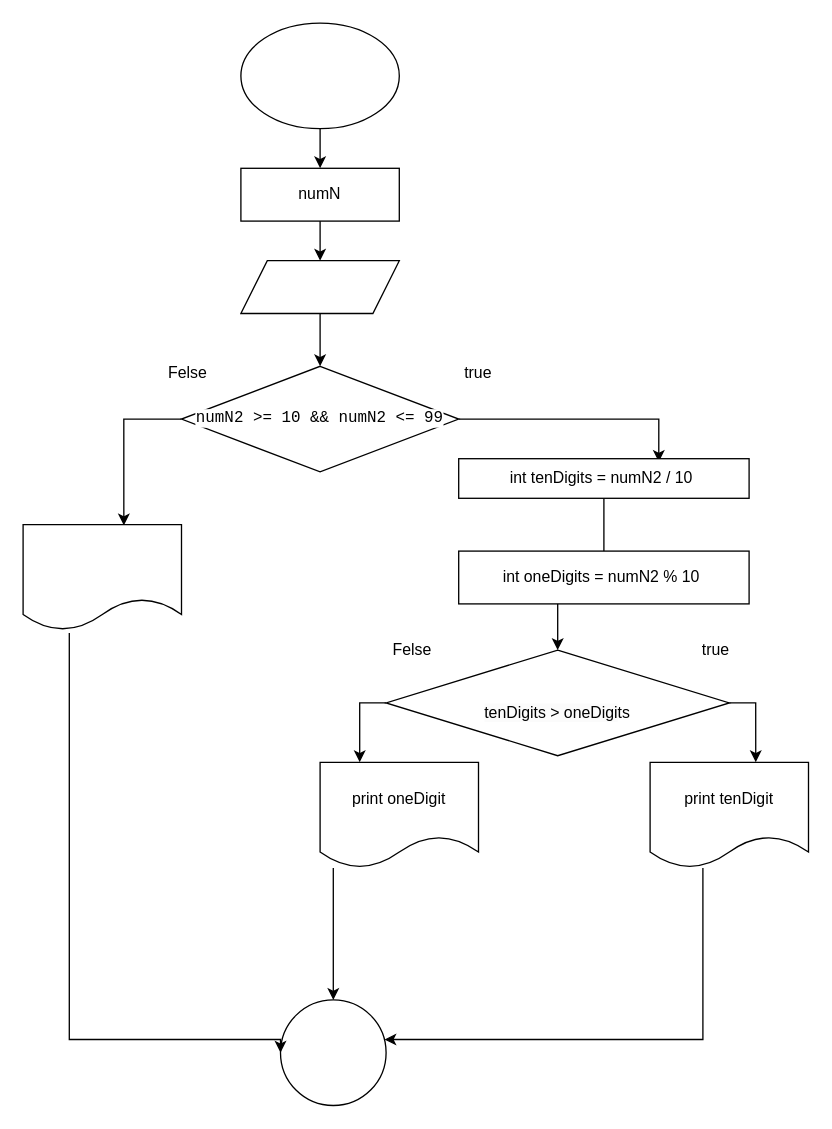
Image size: 832x1129. Some labels were removed from this diagram. The shapes that lost their labels are listed below. From the top down, each one's centre as x and y in pixels, then its label:
(x=319, y=75): start
(x=319, y=286): numN2 = XX;
(x=102, y=576): not two digits
(x=332, y=1052): end
